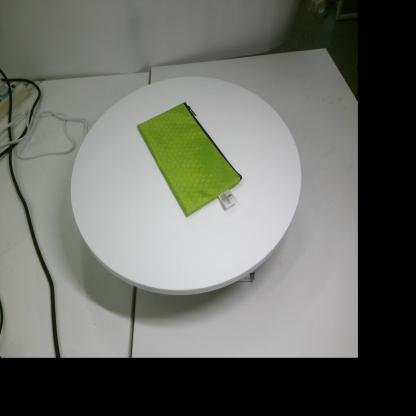Stationery: (137, 102, 242, 216)
